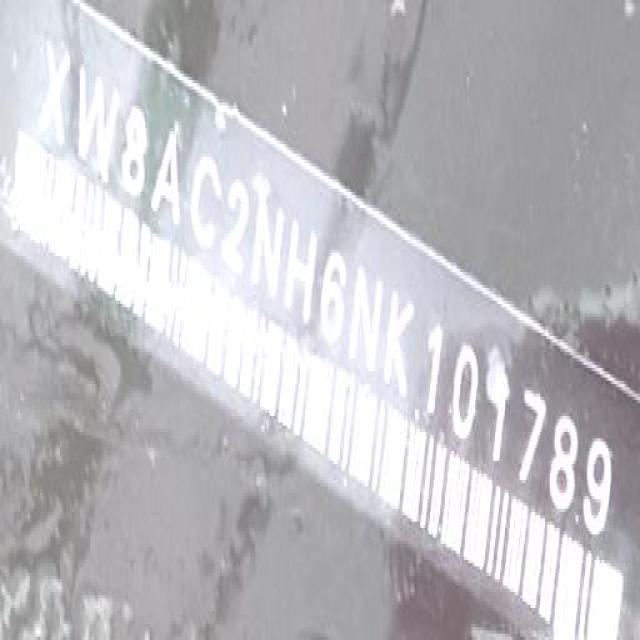0: (444, 328, 486, 455)
1: (478, 337, 514, 479), (425, 310, 442, 426)
2: (221, 173, 250, 273)
6: (318, 248, 351, 347)
7: (516, 388, 547, 487)
8: (547, 414, 579, 524), (120, 99, 150, 208)
9: (578, 427, 624, 553)
A: (146, 103, 192, 238)
C: (184, 129, 226, 264)
H: (278, 196, 323, 334)
K: (381, 288, 418, 399)
N: (344, 252, 390, 388), (245, 176, 287, 311)
W: (78, 68, 120, 182)
X: (26, 28, 76, 154)
